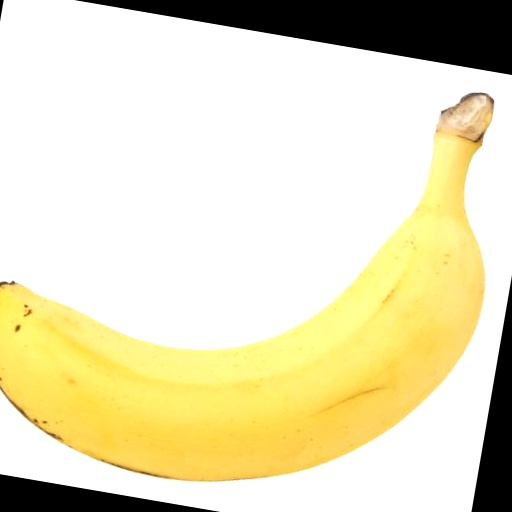fruit: (0, 94, 493, 480)
